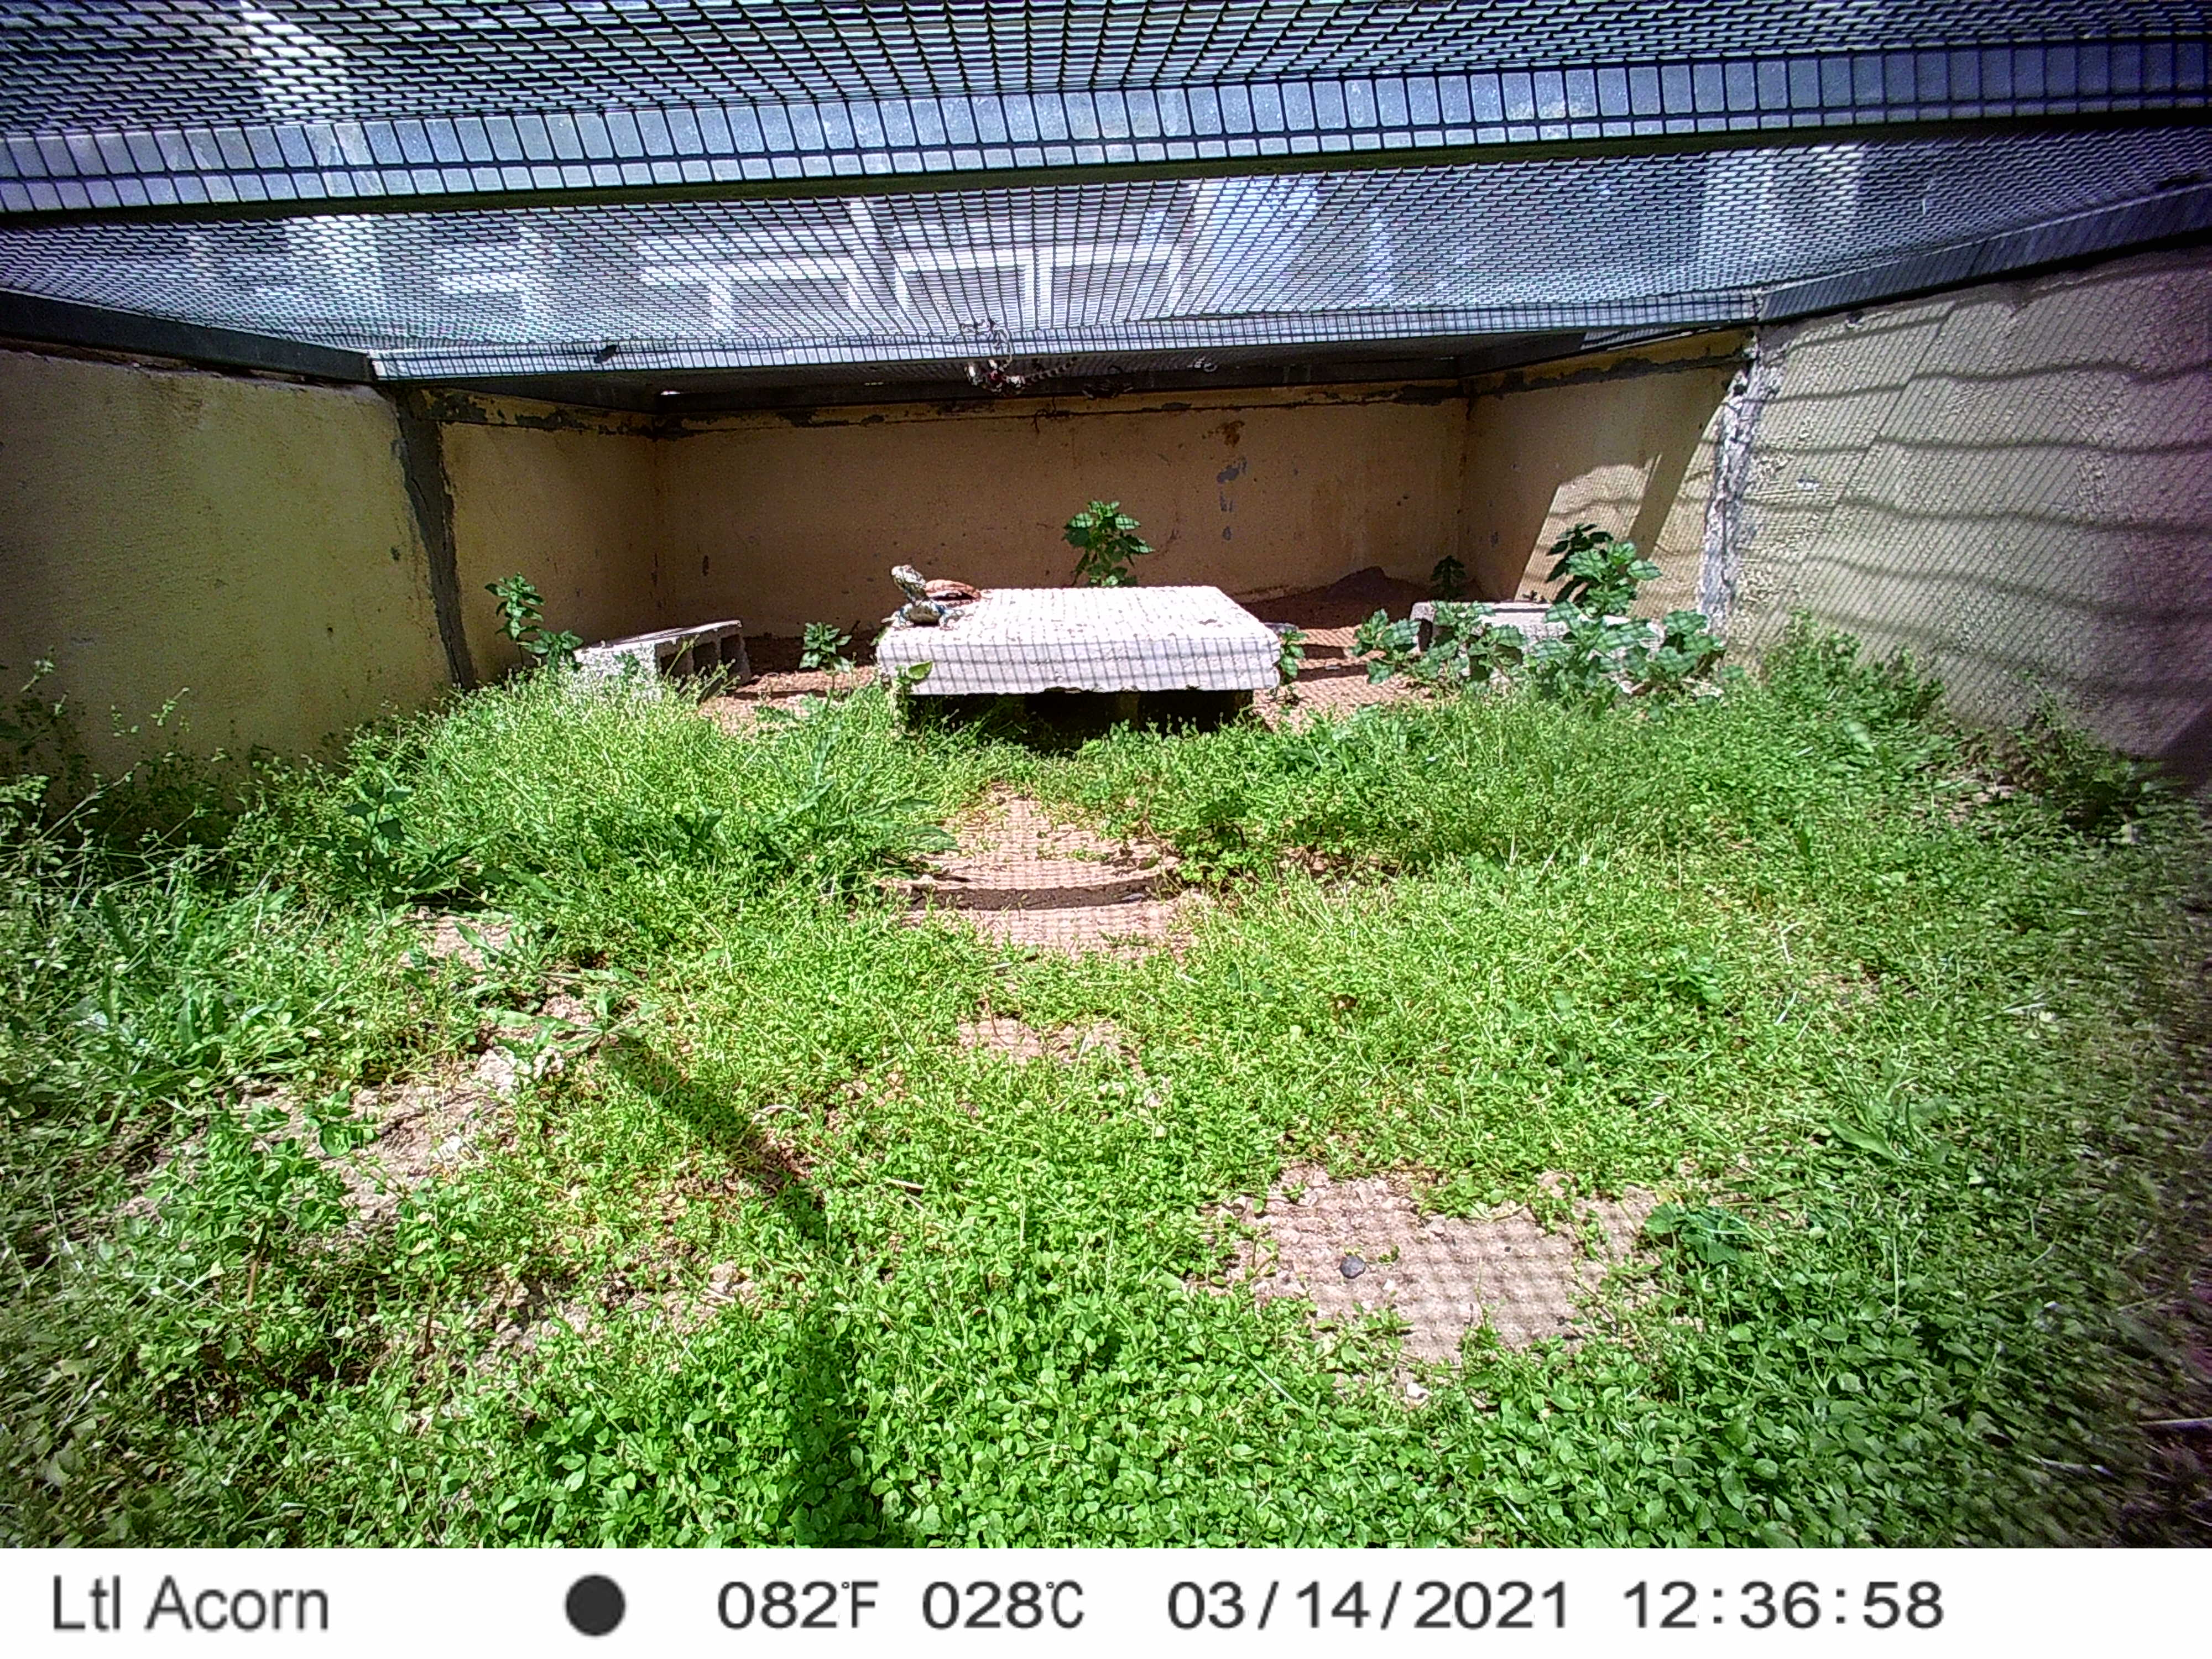lizard: (956, 350, 1085, 399), (888, 561, 972, 636)
